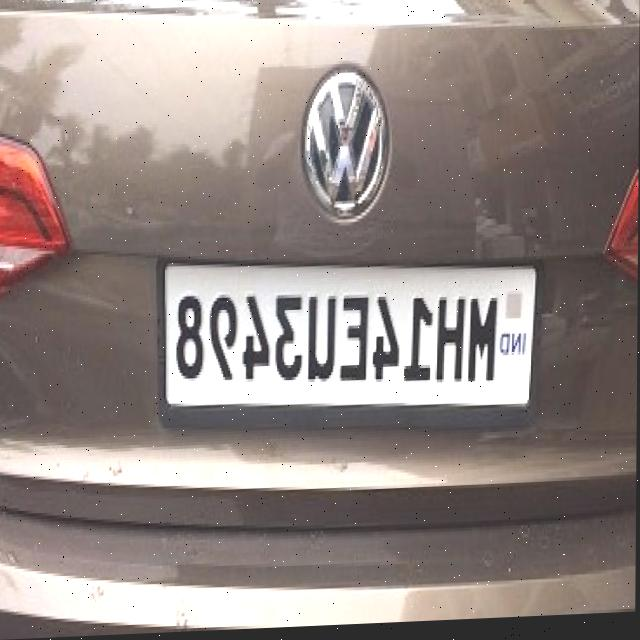plate: (164, 246, 541, 423)
